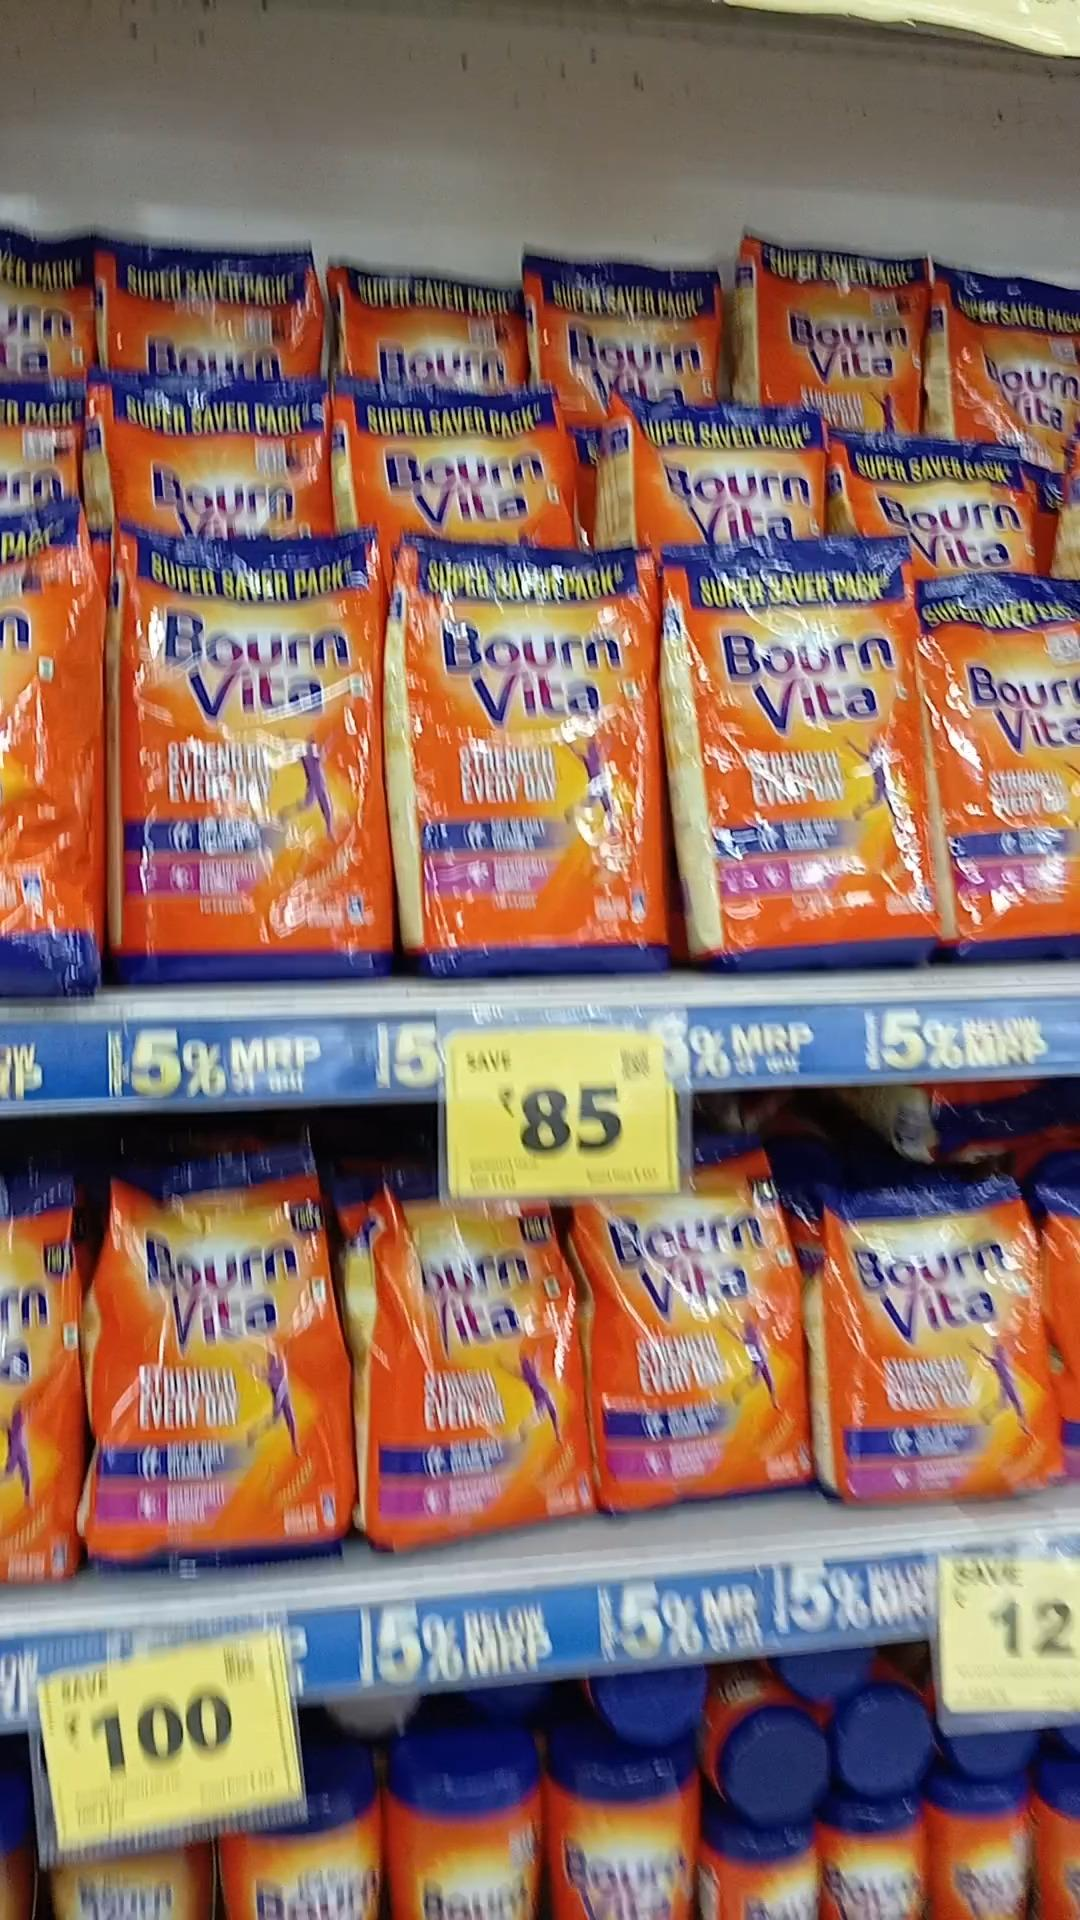BOURN_VITA_1_KG_POUCH: (116, 525, 381, 981), (398, 535, 658, 971), (679, 538, 927, 968), (736, 225, 920, 415)
BOURN_VITA_500_G_POUCH: (819, 1189, 1052, 1506)
BOURN_VITA_750_G_POUCH: (98, 1174, 343, 1557), (361, 1203, 583, 1561), (599, 1185, 804, 1513)
